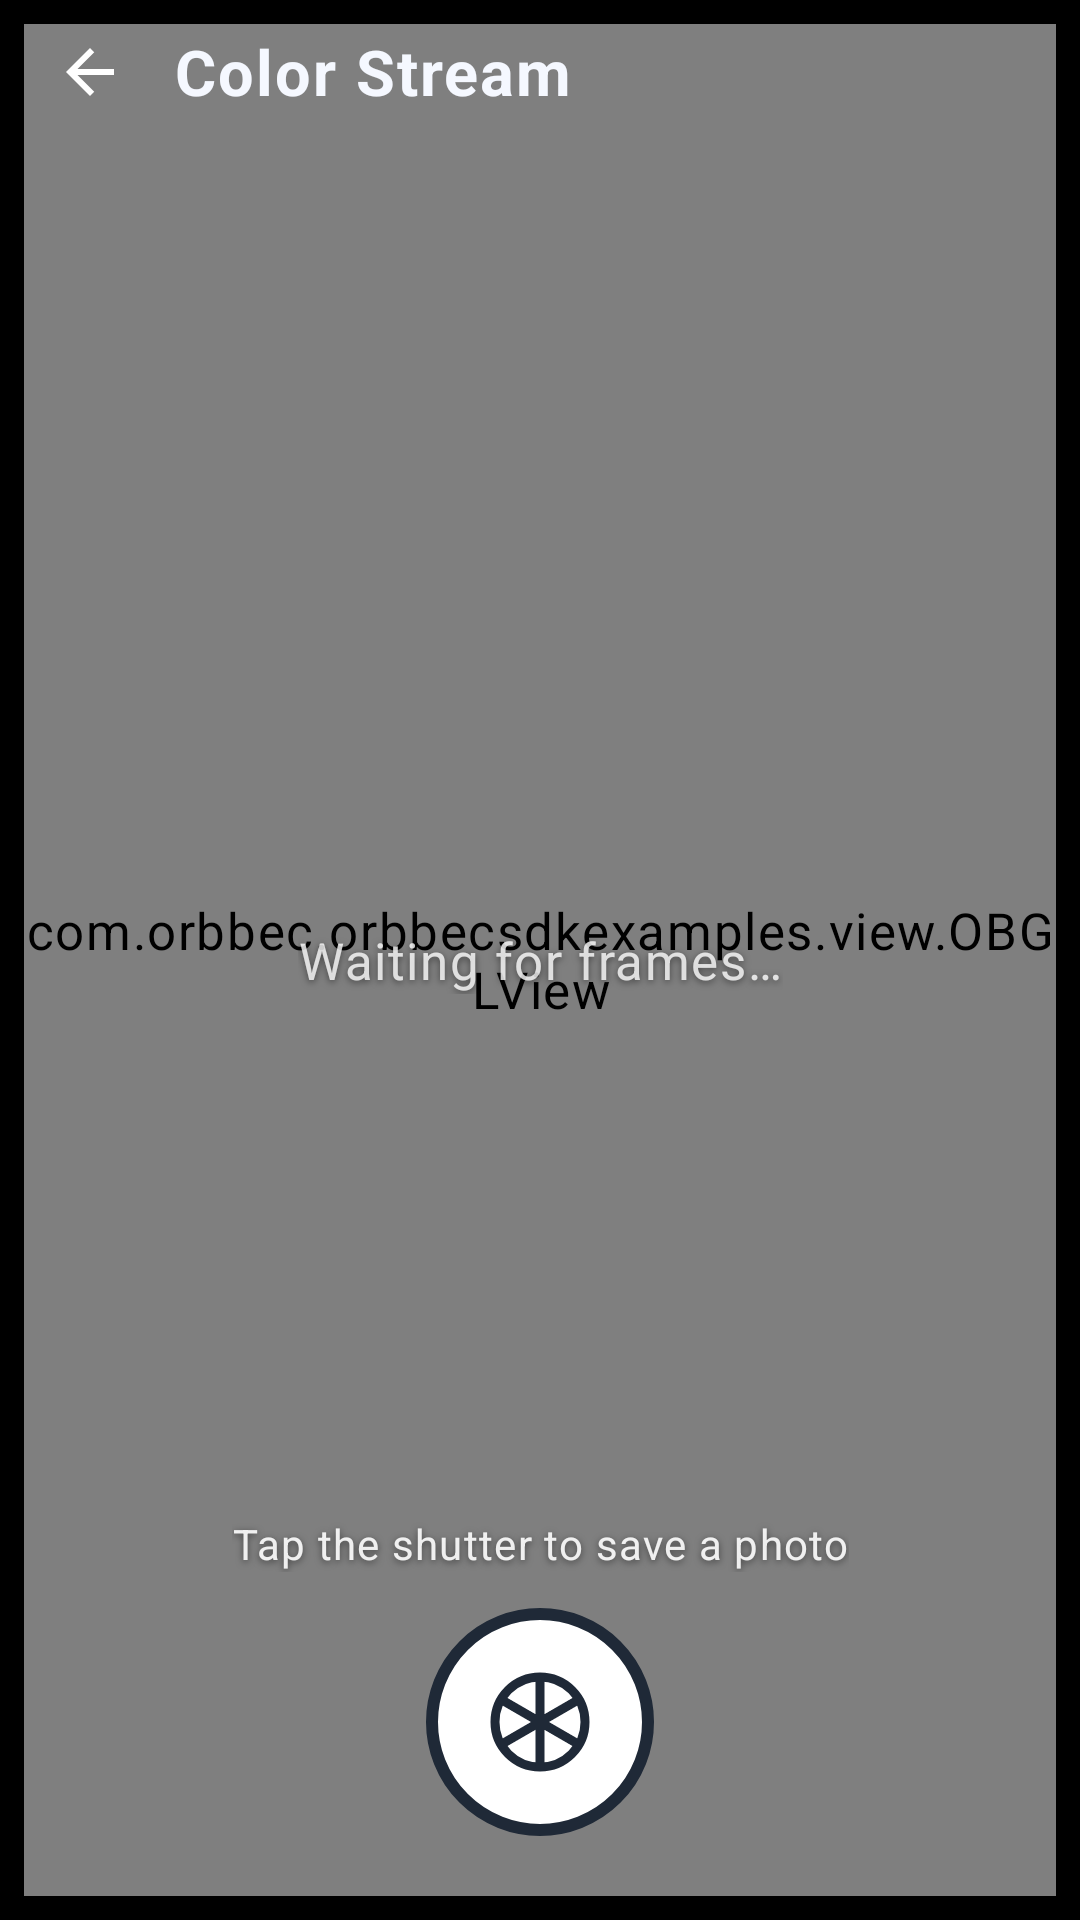

Icon click points for this 1080x1920 phone screenshot, format (x=x, y=y):
Back: (x=90, y=72)
shutter aperture: (x=540, y=1722)
